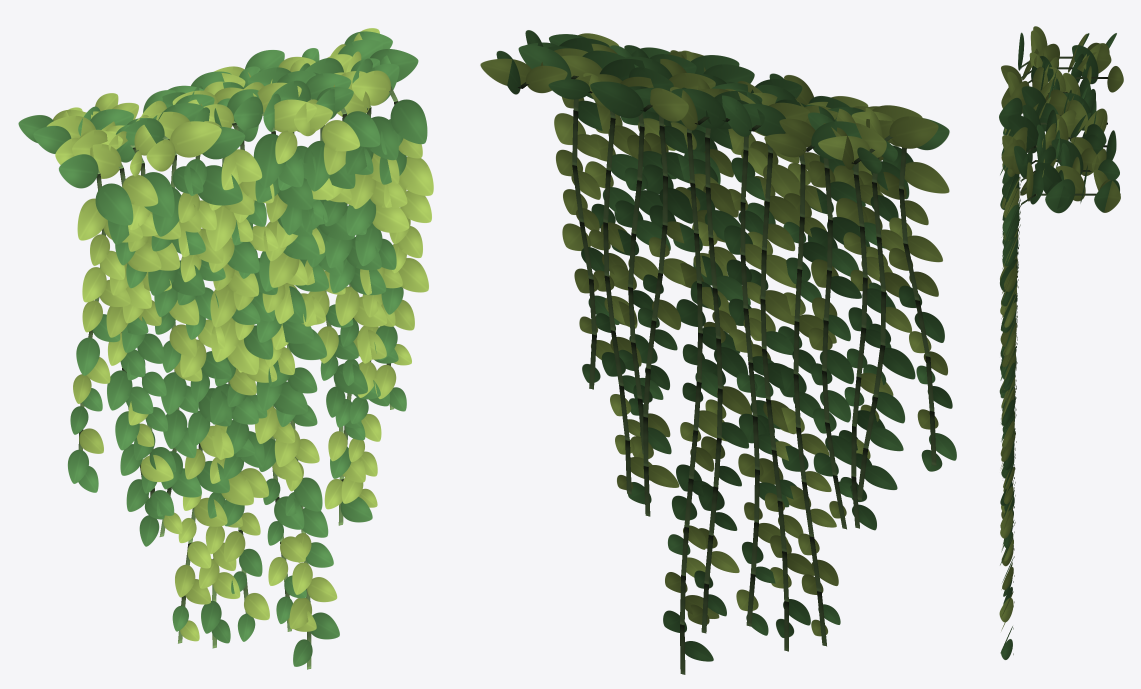
Rendered from plaza_vine.glb.
3 renders of one model, left to right at view 1: azimuth 30°, elevation 25°; view 2: azimuth 150°, elevation 25°; view 3: azimuth 270°, elevation 25°, orthographic. The views are drawn at different scales.
Visible parts, largest first — view 1: plaza_vine; view 2: plaza_vine; view 3: plaza_vine.
Boxes of the visible parts, box(x1,y1,x2,y2) form: plaza_vine: box(18, 28, 433, 669); plaza_vine: box(480, 30, 956, 674); plaza_vine: box(999, 26, 1123, 659).
Bounding box in the file's own units: 3.18 × 4.63 × 0.9887.
3 materials, 3 textured.
